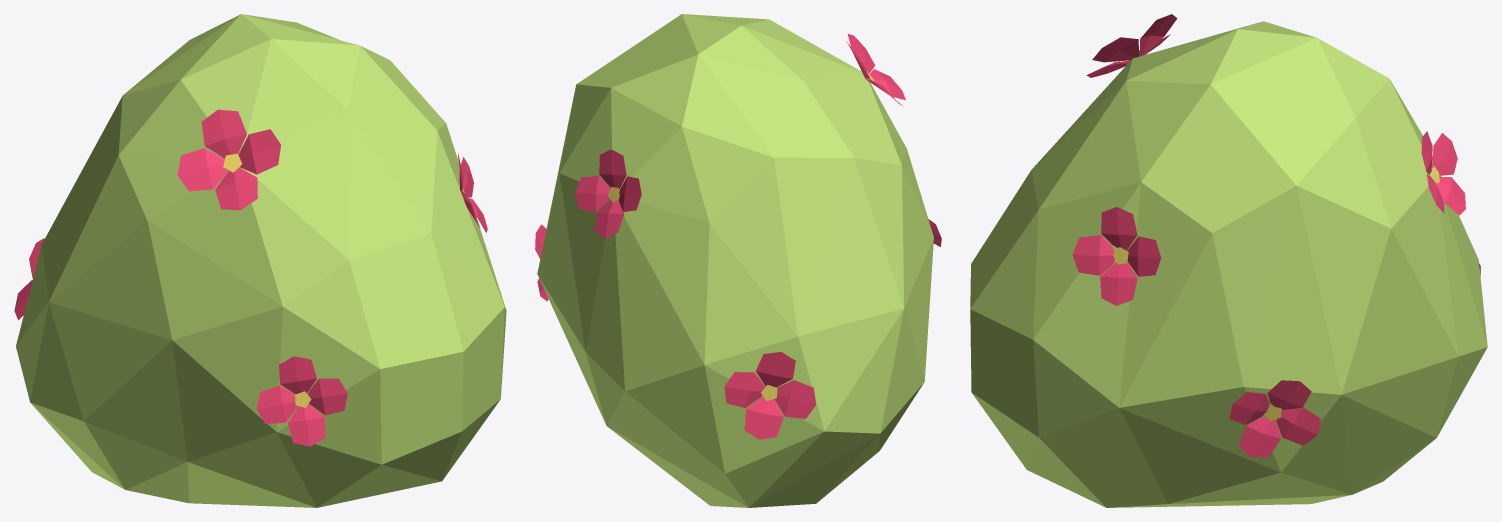
The model's file is FlowerBush_f_m_04.fbx.
3 renders of one model, left to right at view 1: azimuth 30°, elevation 25°; view 2: azimuth 150°, elevation 25°; view 3: azimuth 270°, elevation 25°, orthographic. The views are drawn at different scales.
Visible parts, largest first — view 1: FlowerBush_f_m_04_LOD0; view 2: FlowerBush_f_m_04_LOD0; view 3: FlowerBush_f_m_04_LOD0.
Part boxes in pixels (box(x1,y1,x2,y2)): FlowerBush_f_m_04_LOD0: box(14, 14, 506, 507); FlowerBush_f_m_04_LOD0: box(535, 14, 941, 507); FlowerBush_f_m_04_LOD0: box(970, 14, 1487, 507).
Size of what is drawn, in the model's own units: 154 by 170 by 167.
